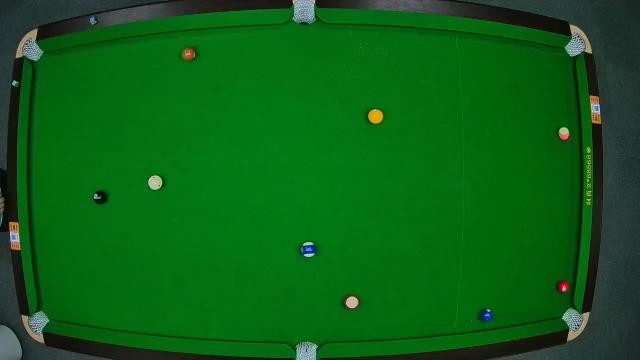bag1: (19, 36, 45, 64)
bag2: (292, 0, 316, 26)
bag3: (563, 30, 589, 57)
bag4: (25, 309, 51, 339)
bag5: (294, 340, 318, 360)
bag6: (560, 306, 586, 334)
ball0: (148, 174, 164, 192)
ball1: (366, 107, 384, 125)
ball10: (301, 241, 317, 258)
ball11: (342, 294, 360, 312)
ball12: (556, 126, 570, 142)
ball2: (478, 306, 494, 324)
ball3: (555, 279, 571, 295)
ball7: (180, 47, 198, 64)
ball8: (94, 190, 108, 206)
